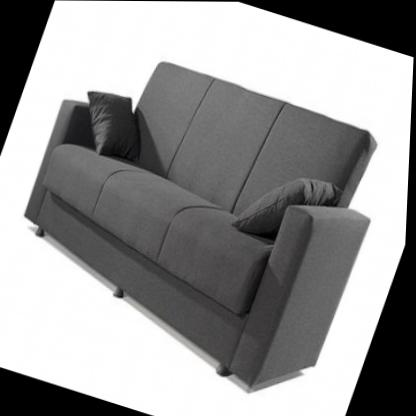Sofa: (0, 30, 407, 413)
